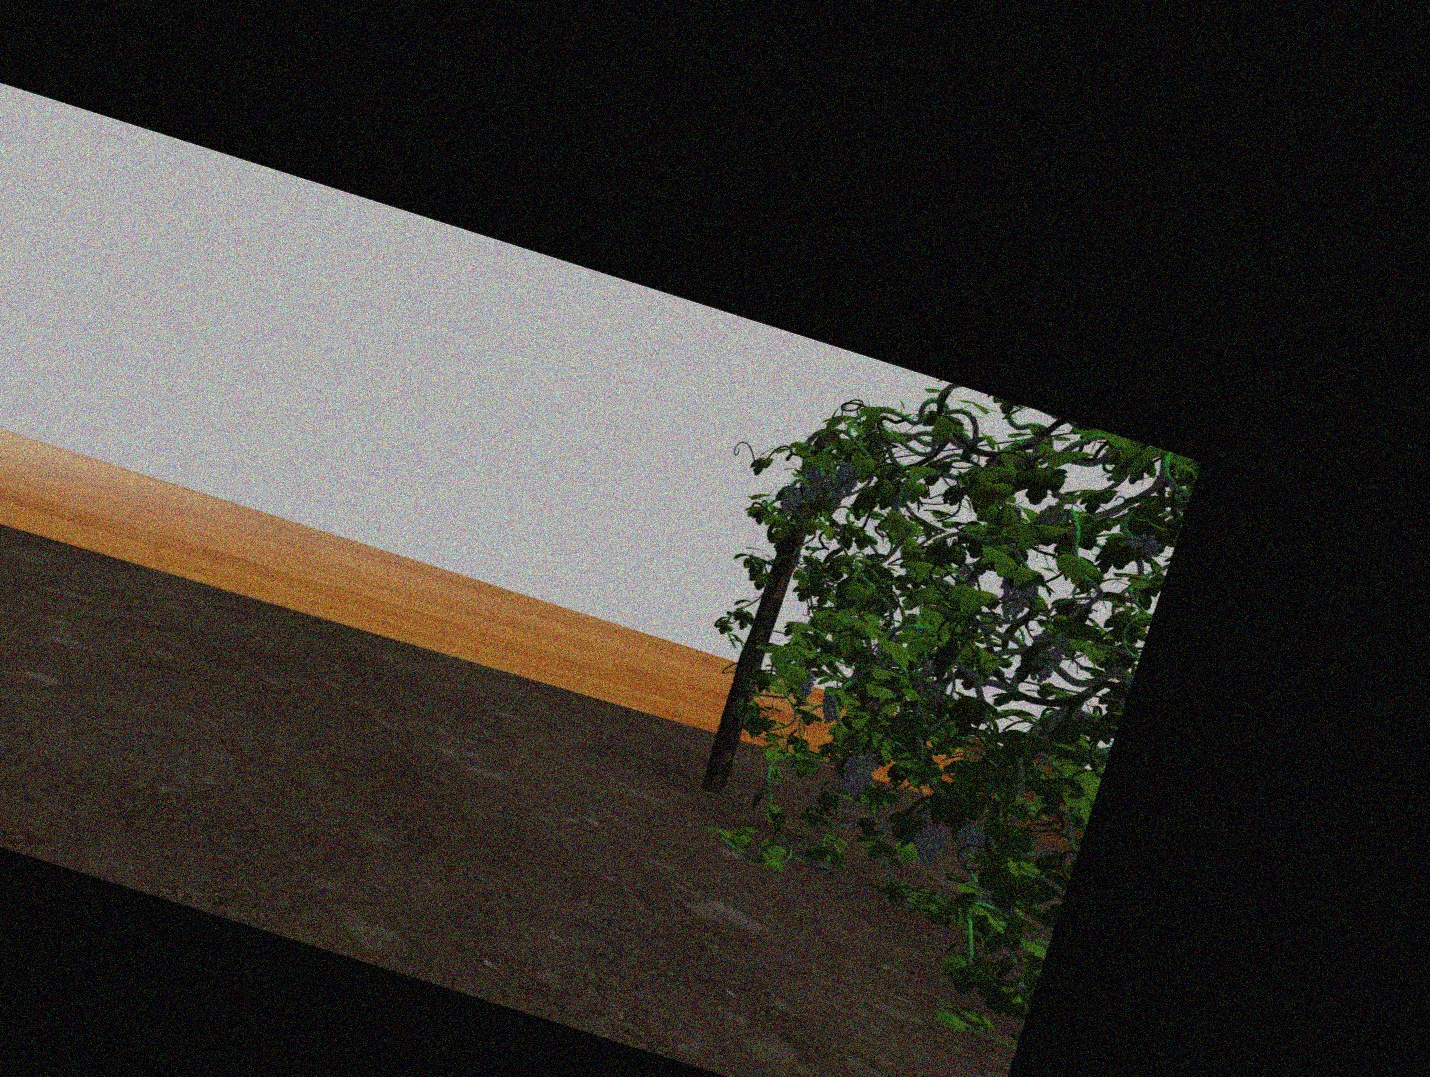grape: (1028, 631, 1062, 683), (841, 748, 873, 796), (999, 575, 1033, 619), (911, 824, 945, 865), (954, 825, 983, 859), (1127, 532, 1163, 555), (834, 462, 858, 496), (800, 466, 822, 500), (821, 686, 842, 722), (779, 486, 800, 512), (796, 672, 815, 698)
